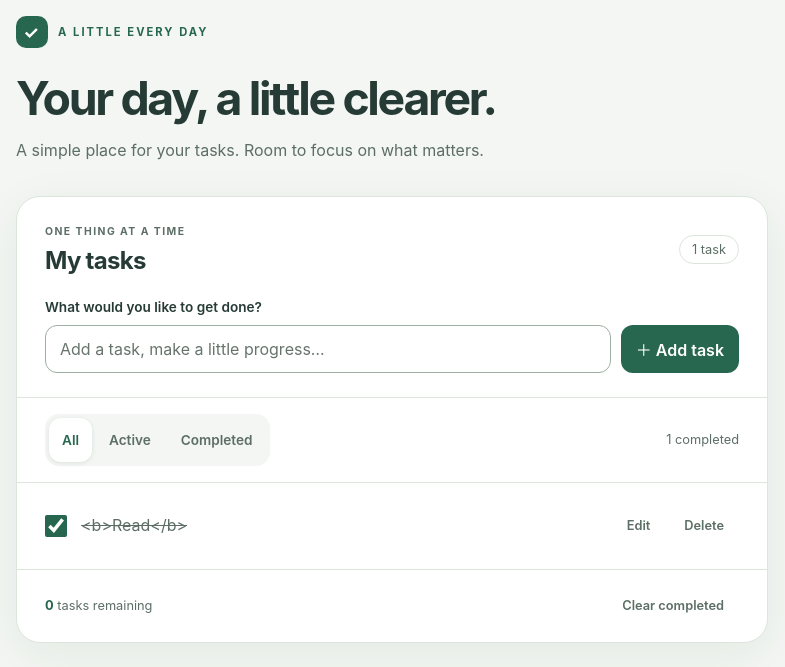
Test case: todo app › does not write on mount, renders task text safely, and permits duplicates
This screenshot has width=785, height=667.
Expected: the checkbox labelled "<b>Read</b>" is checked, top-left (45, 515), bottom-right (67, 537)
In the field labelled "What would you like to get done?": coordinates (328, 349) top-left (45, 325), bottom-right (611, 373), type "<b>Read</b>"
Then press Enter
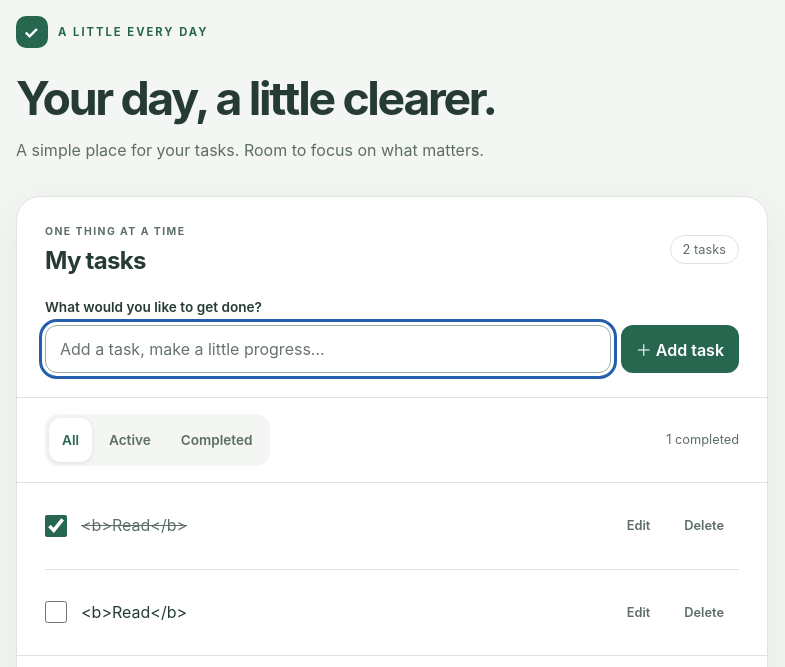
Expected: the number of list items is 2, top-left (45, 504), bottom-right (739, 548); top-left (45, 569), bottom-right (739, 655)
